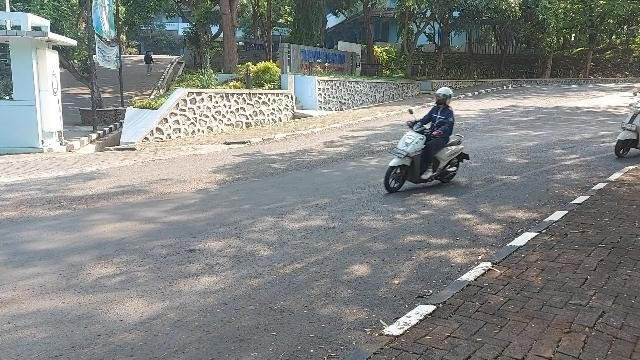helm: (436, 88, 454, 106)
motor: (386, 110, 471, 193)
